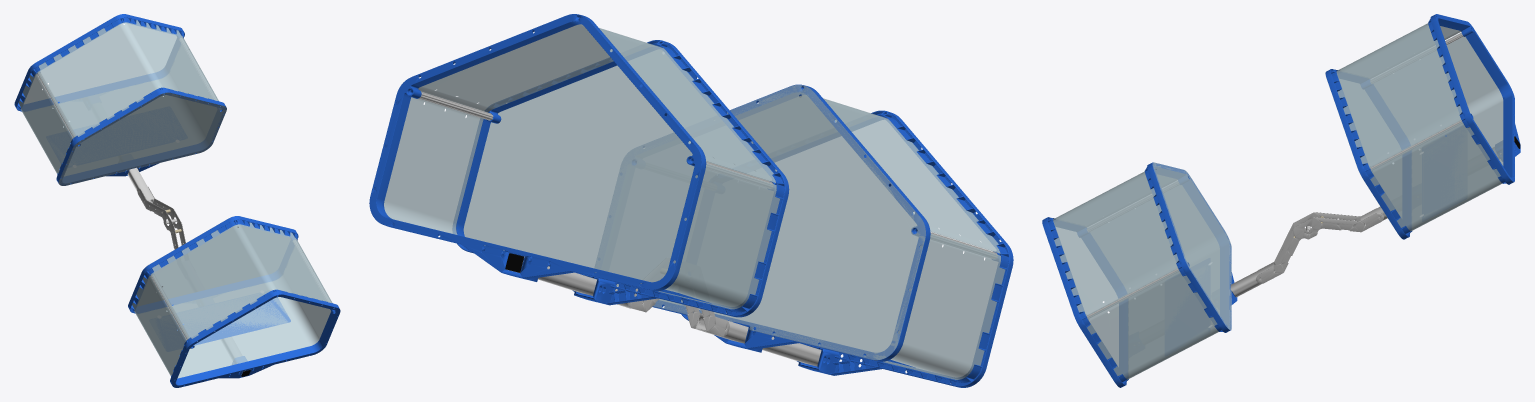
Rendered from hive-blue.glb.
3 views of the same model, side by side, from view 1: azimuth 30°, elevation 25°; view 2: azimuth 150°, elevation 25°; view 3: azimuth 270°, elevation 25° (orthographic). The views are drawn at different scales.
Parts seen in each view (by area): view 1: am-5869: Hive Goal Top Skin (×2), am-5888: Hive Goal Bottom Skin (×2), am-5871: Hive Goal Back Skin (×2), am-5866-blue: Blue Goal Rib (×4), am-5888-blue1: Blue Goal April Tag (Audience), am-5873: Goal Pivot Bracket (×2), am-5868: Basket Base Tube; view 2: am-5871: Hive Goal Back Skin (×2), am-5866-blue: Blue Goal Rib (×4), am-5888: Hive Goal Bottom Skin (×2), am-5869: Hive Goal Top Skin (×2), am-5868: Basket Base Tube (×2), am-5873: Goal Pivot Bracket, am-5867: 10.5in Churro Lite; view 3: am-5888: Hive Goal Bottom Skin (×2), am-5869: Hive Goal Top Skin (×2), am-5866-blue: Blue Goal Rib (×4), am-5871: Hive Goal Back Skin (×2), am-5873: Goal Pivot Bracket (×2), am-5868: Basket Base Tube.
Part boxes in pixels (<box>): am-5869: Hive Goal Top Skin (×2): <box>37,20,332,341</box>; am-5888: Hive Goal Bottom Skin (×2): <box>18,40,330,379</box>; am-5871: Hive Goal Back Skin (×2): <box>58,92,289,305</box>; am-5866-blue: Blue Goal Rib (×4): <box>14,14,340,387</box>; am-5888-blue1: Blue Goal April Tag (Audience): <box>177,298,290,345</box>; am-5873: Goal Pivot Bracket (×2): <box>137,187,185,249</box>; am-5868: Basket Base Tube: <box>127,167,154,203</box>; am-5871: Hive Goal Back Skin (×2): <box>463,50,925,360</box>; am-5866-blue: Blue Goal Rib (×4): <box>369,14,1013,387</box>; am-5888: Hive Goal Bottom Skin (×2): <box>384,97,1005,379</box>; am-5869: Hive Goal Top Skin (×2): <box>418,24,1000,253</box>; am-5868: Basket Base Tube (×2): <box>507,256,821,366</box>; am-5873: Goal Pivot Bracket: <box>627,293,729,336</box>; am-5867: 10.5in Churro Lite: <box>419,91,493,120</box>; am-5888: Hive Goal Bottom Skin (×2): <box>1087,32,1503,379</box>; am-5869: Hive Goal Top Skin (×2): <box>1053,23,1461,316</box>; am-5866-blue: Blue Goal Rib (×4): <box>1042,14,1520,387</box>; am-5871: Hive Goal Back Skin (×2): <box>1152,73,1401,329</box>; am-5873: Goal Pivot Bracket (×2): <box>1256,208,1383,283</box>; am-5868: Basket Base Tube: <box>1230,262,1275,297</box>.
Bounding box in the file's own units: 533 × 898 × 1148.
